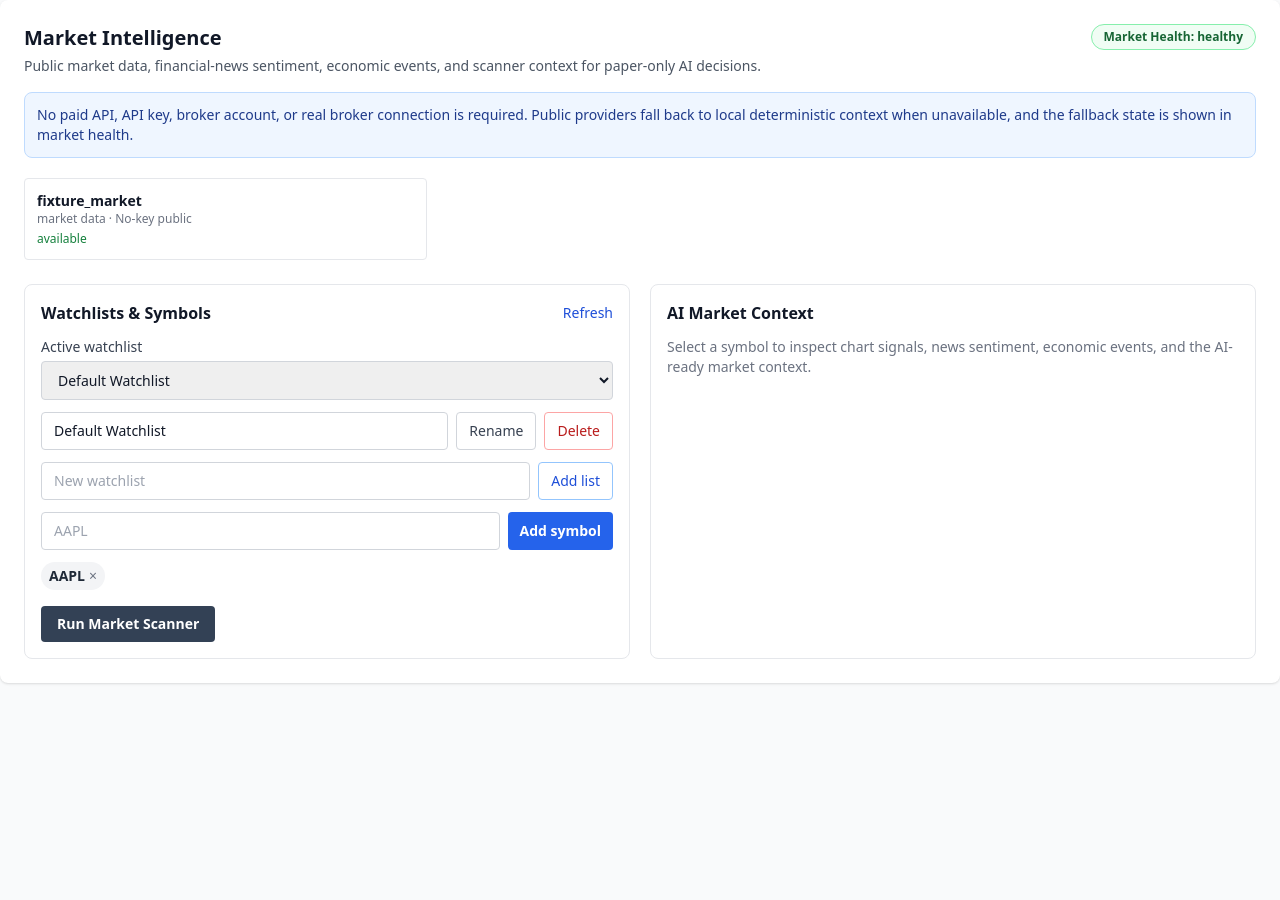
Test: MarketIntelligencePanel › shows provider health, market context, scanner results, and a paper-only AI action
Expected: the text "Market Health: healthy" is shown, [1090,24,1256,50]
Expected: the text "fixture_market" is shown, [37,191,142,210]
Click the button "AAPL" at (67, 576), box [49,566,85,586]
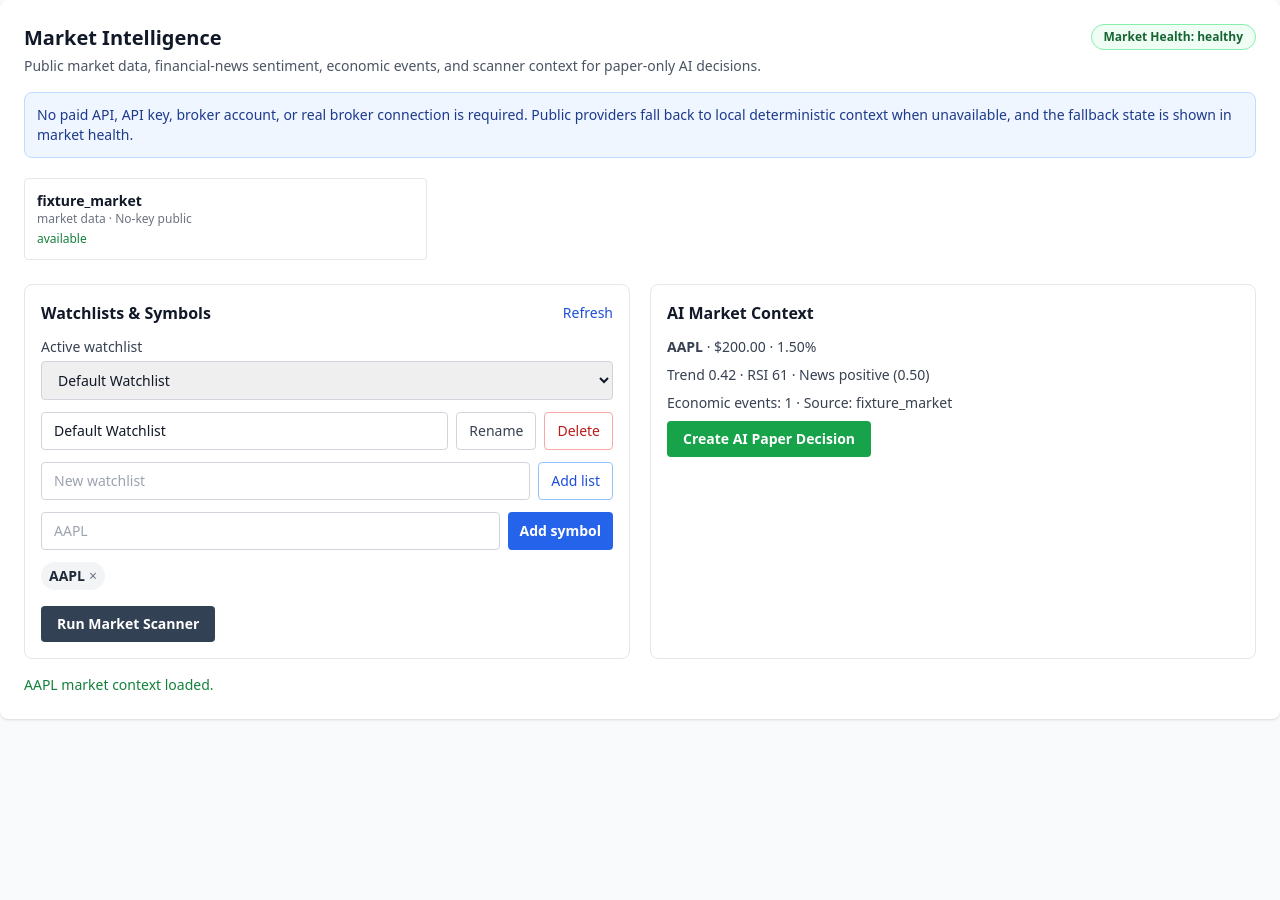
Expected: the text "AAPL market context loaded." is shown, [24,675,214,694]
Expected: the text "Trend 0.42 · RSI 61 · News positive (0.50)" is shown, [667,365,930,384]
Click the button "Run Market Scanner" at (128, 624), box [41,606,215,642]
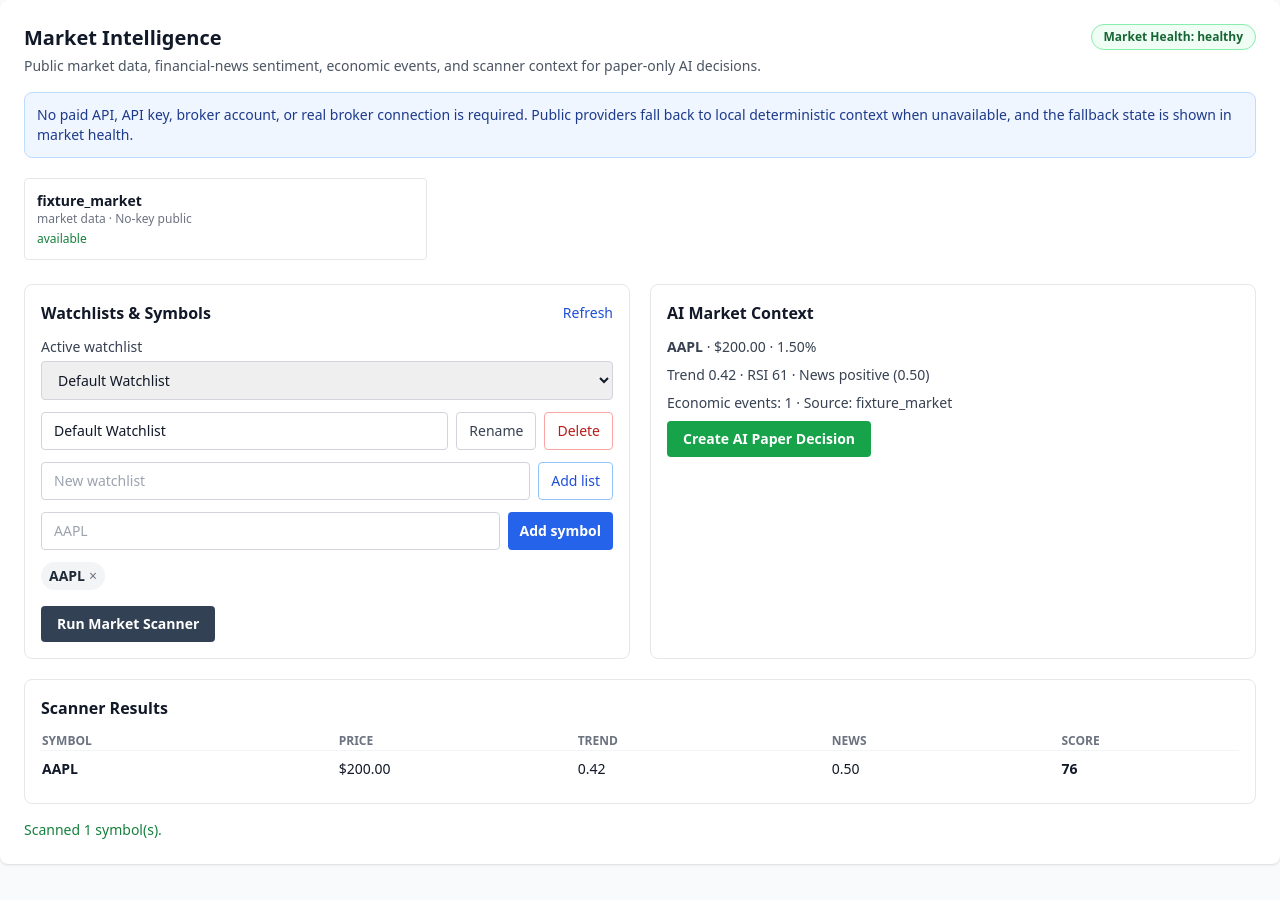
Expected: the heading "Scanner Results" is shown, [41,697,168,719]
Expected: the text "76" is shown, [1060,750,1239,787]
Click the button "Create AI Paper Decision" at (769, 439), box [667,421,871,457]
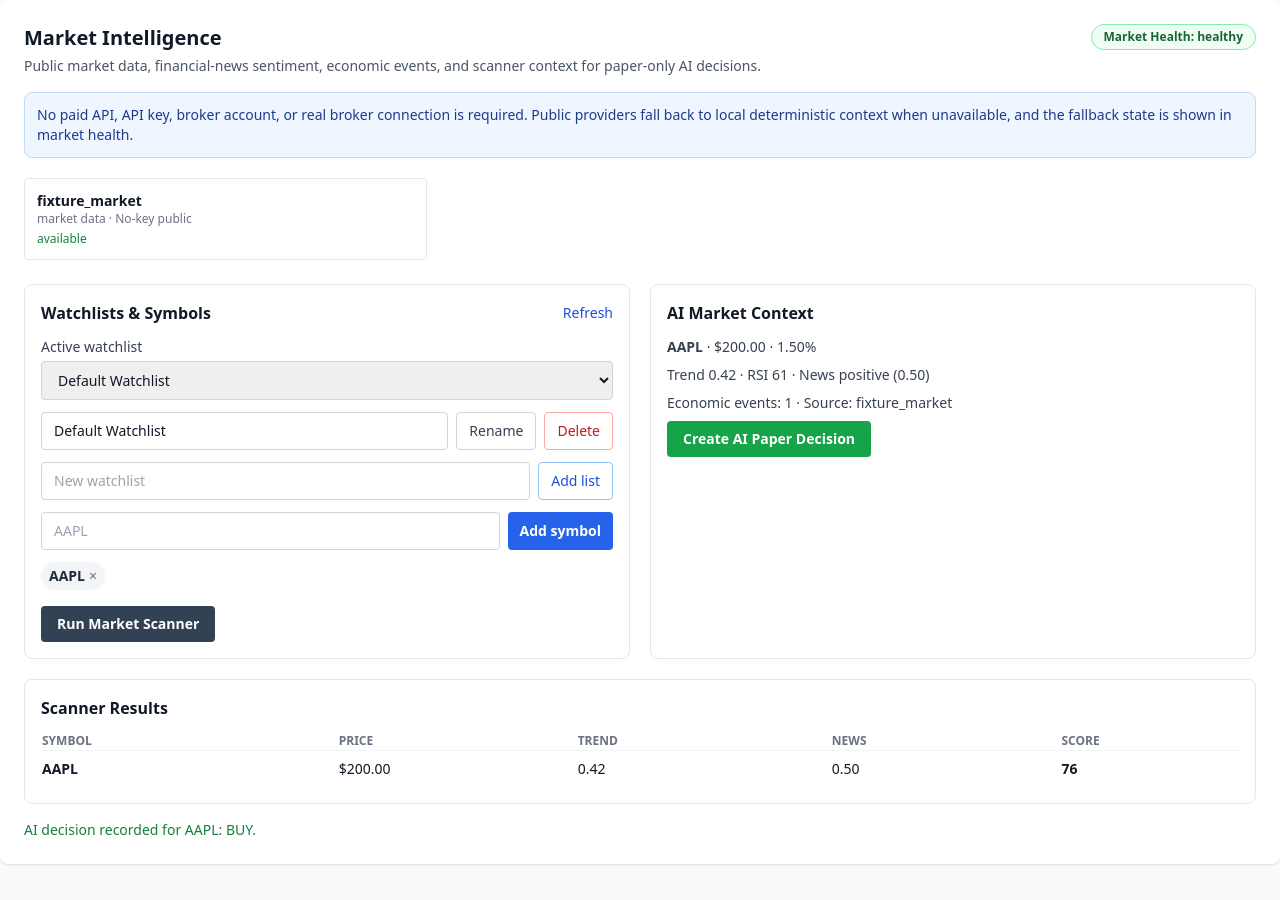
Expected: the text "AI decision recorded for AAPL: BUY." is shown, [24,820,256,839]
